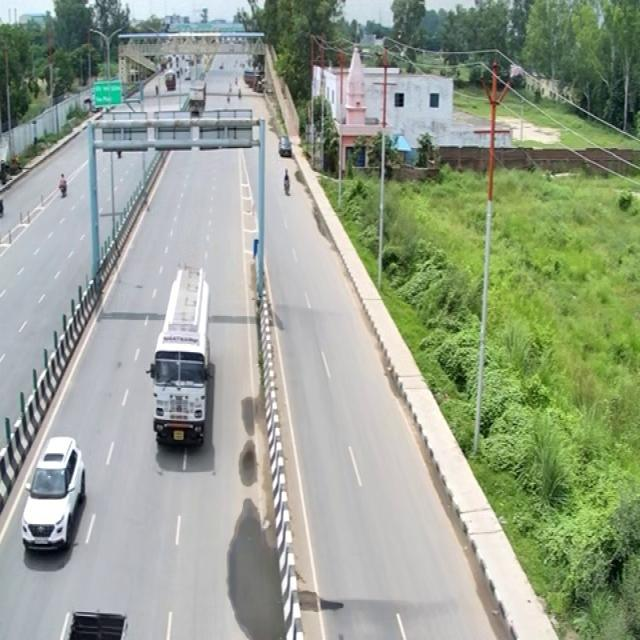car: (17, 433, 87, 556)
